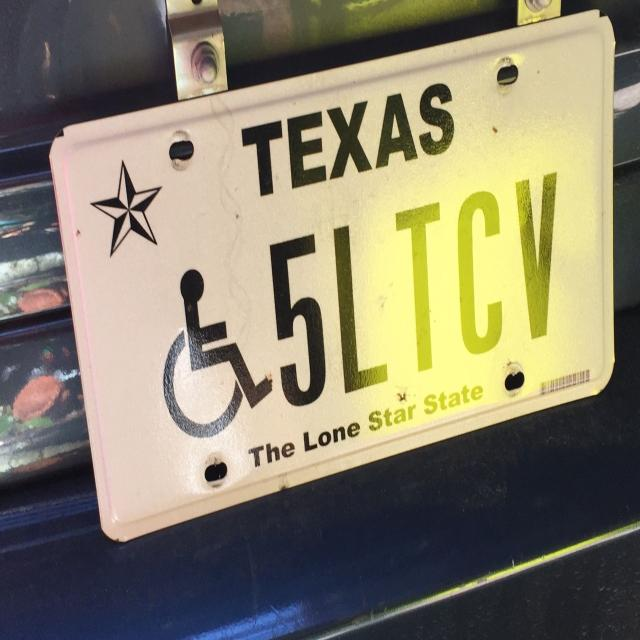symbol_of_access: (152, 258, 279, 447)
